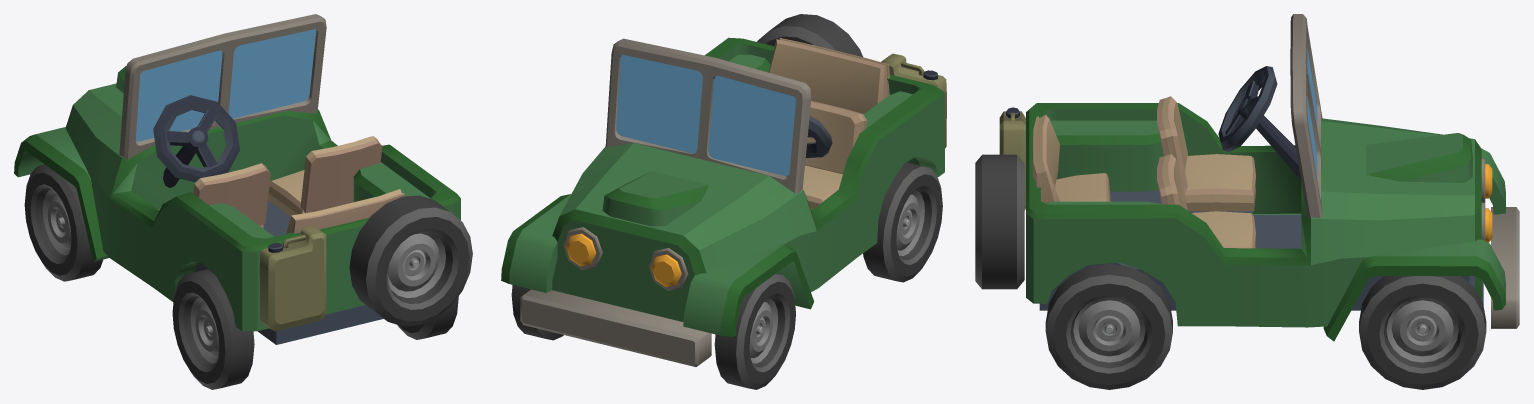
The model's file is Jeep_A.fbx.
3 views of the same model, side by side, from view 1: azimuth 30°, elevation 25°; view 2: azimuth 150°, elevation 25°; view 3: azimuth 270°, elevation 25° (orthographic). The views are drawn at different scales.
Visible parts, largest first — view 1: Jeep_A, Jeep_A_BL, Jeep_A_FL, Jeep_A_BR; view 2: Jeep_A, Jeep_A_BL, Jeep_A_FL, Jeep_A_FR; view 3: Jeep_A, Jeep_A_BR, Jeep_A_FR.
Boxes of the visible parts, x1=… form: Jeep_A: x1=14, y1=14, x2=472, y2=344; Jeep_A_BL: x1=172, y1=269, x2=254, y2=389; Jeep_A_FL: x1=24, y1=164, x2=102, y2=281; Jeep_A_BR: x1=397, y1=296, x2=458, y2=339; Jeep_A: x1=501, y1=14, x2=946, y2=366; Jeep_A_BL: x1=863, y1=162, x2=942, y2=282; Jeep_A_FL: x1=714, y1=273, x2=795, y2=389; Jeep_A_FR: x1=511, y1=285, x2=563, y2=340; Jeep_A: x1=975, y1=14, x2=1519, y2=341; Jeep_A_BR: x1=1045, y1=263, x2=1172, y2=389; Jeep_A_FR: x1=1359, y1=276, x2=1486, y2=389.
Size of the model in its own units: 172 by 182 by 328.
